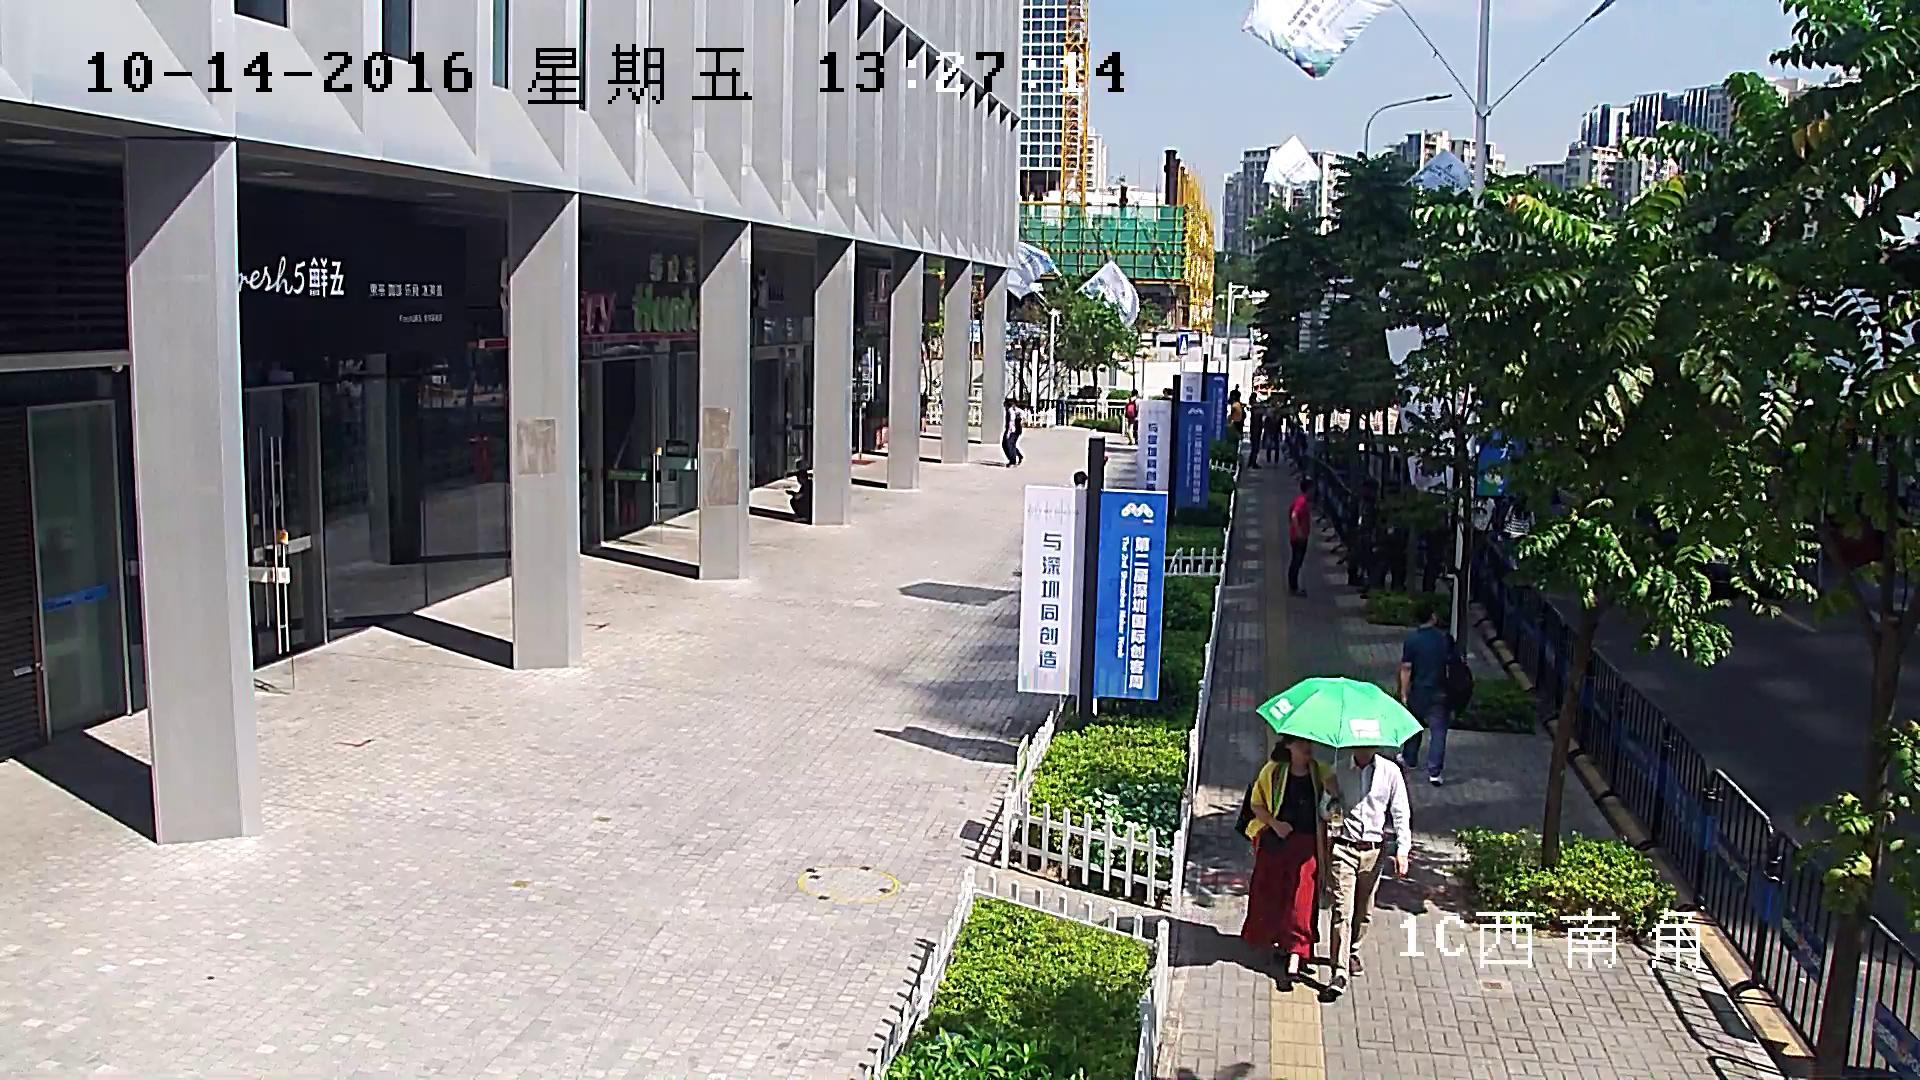person: (1231, 676, 1427, 979), (1255, 677, 1428, 995), (1233, 734, 1345, 978), (1318, 745, 1412, 995), (1395, 606, 1473, 785), (1287, 479, 1315, 598), (1502, 495, 1536, 540), (1001, 397, 1023, 467), (785, 470, 812, 523), (1246, 408, 1262, 469), (1471, 495, 1498, 532), (1263, 415, 1282, 465), (1124, 388, 1140, 446), (1227, 396, 1246, 442), (1227, 383, 1241, 405)
